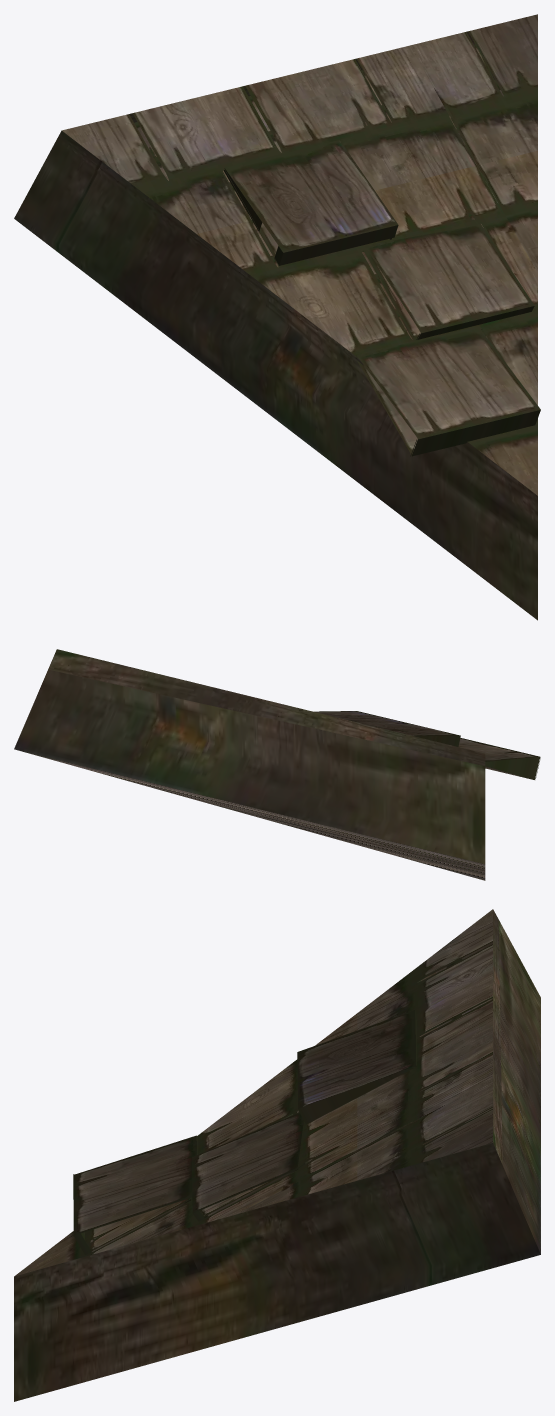
3 renders of one model, top to bottom at view 1: azimuth 30°, elevation 25°; view 2: azimuth 150°, elevation 25°; view 3: azimuth 270°, elevation 25°, orthographic. The views are drawn at different scales.
Parts seen in each view (by area): view 1: SM_BB_T1_Roof_Triangle_Shallow_Med_LOD0; view 2: SM_BB_T1_Roof_Triangle_Shallow_Med_LOD0; view 3: SM_BB_T1_Roof_Triangle_Shallow_Med_LOD0.
Boxes of the visible parts, bbox=[...] form: SM_BB_T1_Roof_Triangle_Shallow_Med_LOD0: bbox=[14, 14, 540, 620]; SM_BB_T1_Roof_Triangle_Shallow_Med_LOD0: bbox=[14, 649, 540, 880]; SM_BB_T1_Roof_Triangle_Shallow_Med_LOD0: bbox=[14, 909, 540, 1401].
Bounding box in the file's own units: 1.65 × 1.12 × 1.43.
3 materials, 3 textured.
